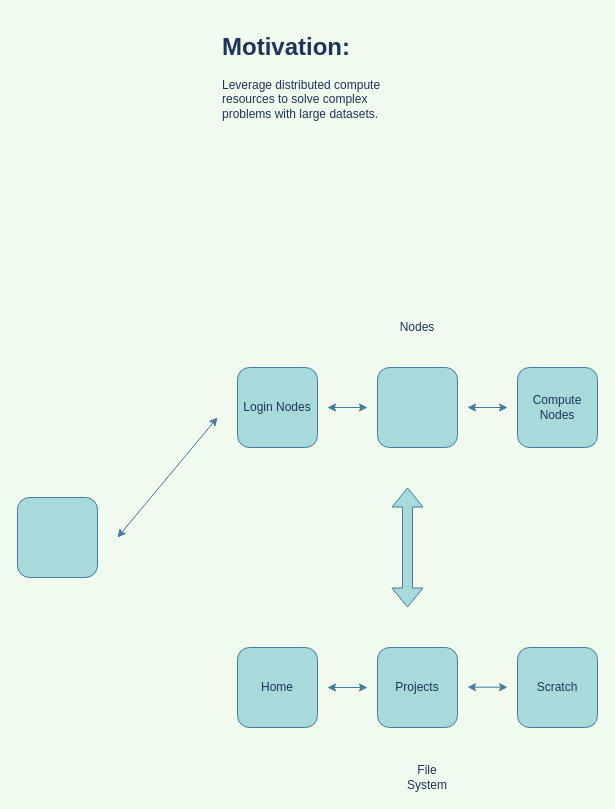
The diagram is 615 pixels wide and 809 high, and some of its shapes have lost their labels. The shapes that lost their labels are listed below. From the top down, each one's box as (x1, y1, x2, y2) in pixels, then its label:
(376, 366, 458, 448): Compile Nodes
(16, 496, 98, 578): User
